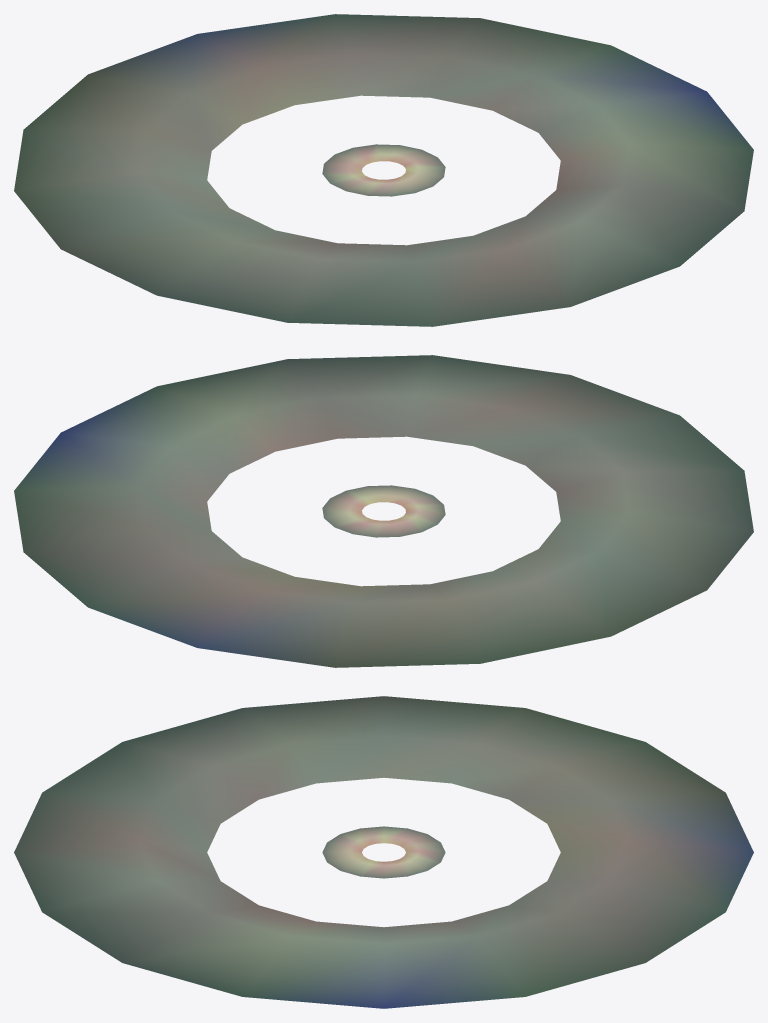
Rendered from space-nebulae-ring-nebula_v2.glb.
The picture shows the model from 3 angles, top to bottom: view 1: azimuth 30°, elevation 25°; view 2: azimuth 150°, elevation 25°; view 3: azimuth 270°, elevation 25°; orthographic projection.
Visible parts, largest first — view 1: Ring Nebula_v2; view 2: Ring Nebula_v2; view 3: Ring Nebula_v2.
Boxes of the visible parts, <box> form: Ring Nebula_v2: <box>14,14,753,326</box>; Ring Nebula_v2: <box>14,355,753,667</box>; Ring Nebula_v2: <box>14,696,753,1008</box>.
Size of the model in its own units: 0.5 by 0.0181 by 0.5.
